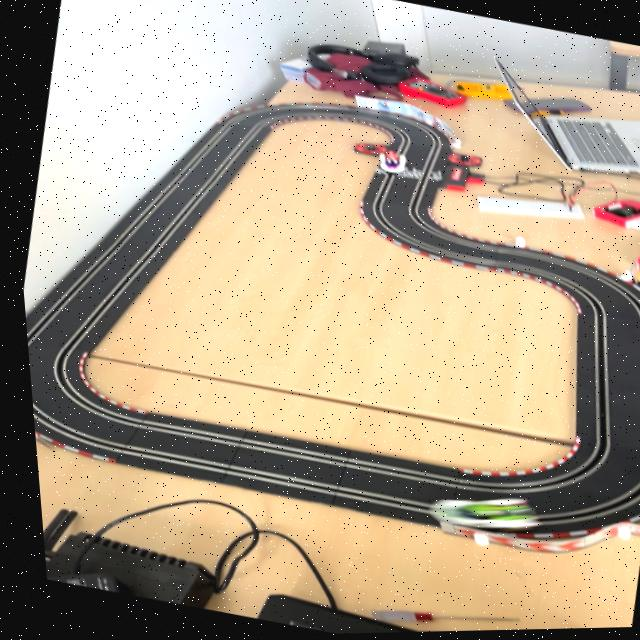mario: (368, 148, 410, 180)
yoshi: (411, 478, 541, 551)
